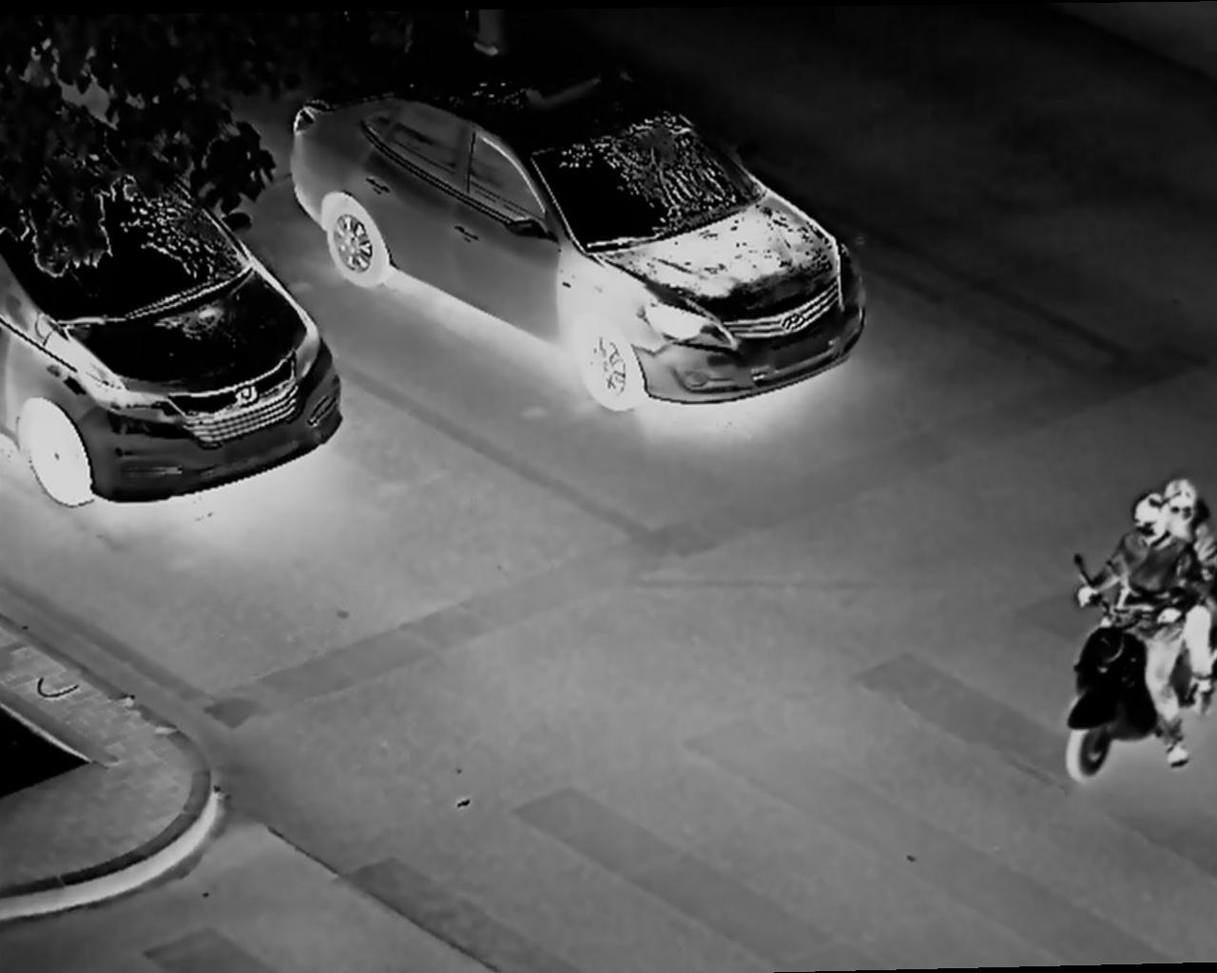person: (1079, 494, 1194, 763), (1143, 474, 1217, 710)
